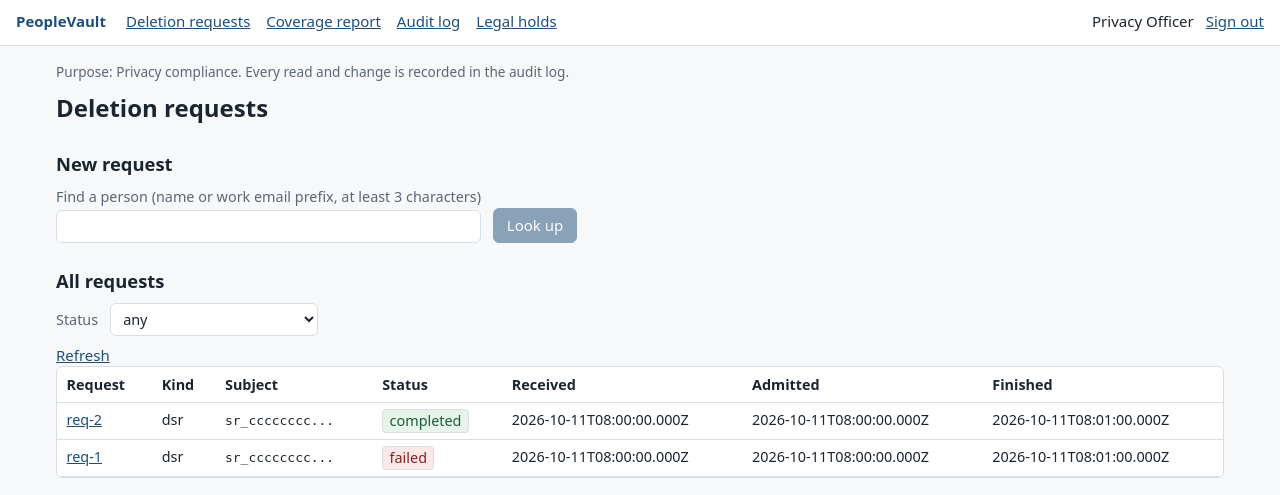
Test: deletion requests › lists requests and filters by status
expect the link "req-2" is shown: met, box [67,410,102,429]
Select "failed" in the dropdown labelled "Status" at (214, 319), box [110,303,318,336]
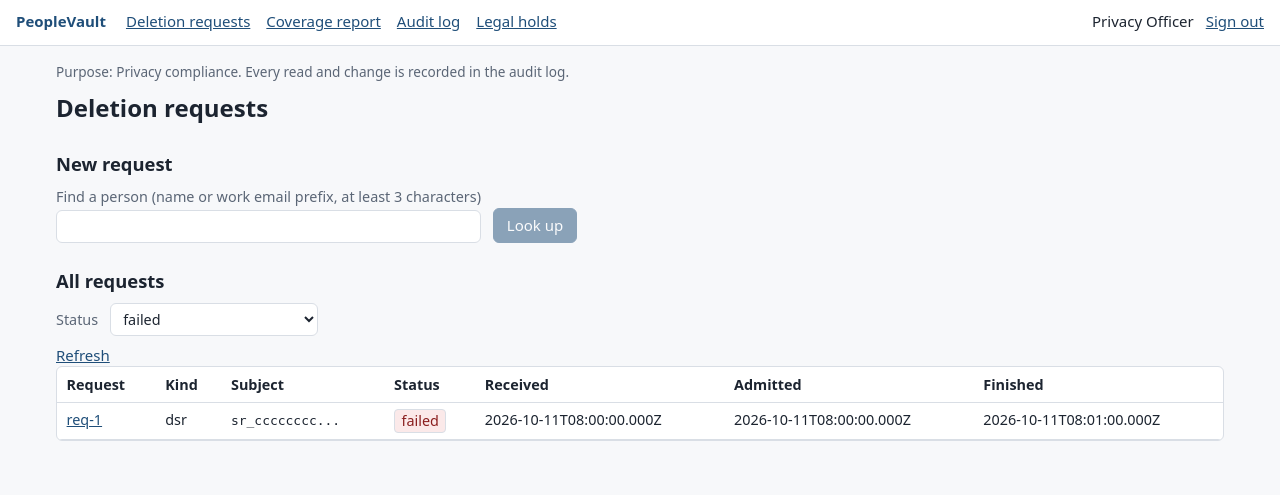
expect the link "req-2" is gone: met
